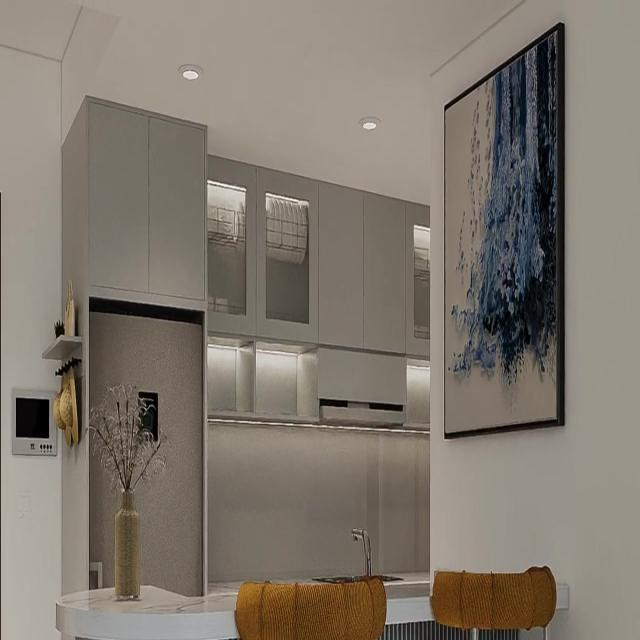obstacle: (88, 301, 204, 598)
